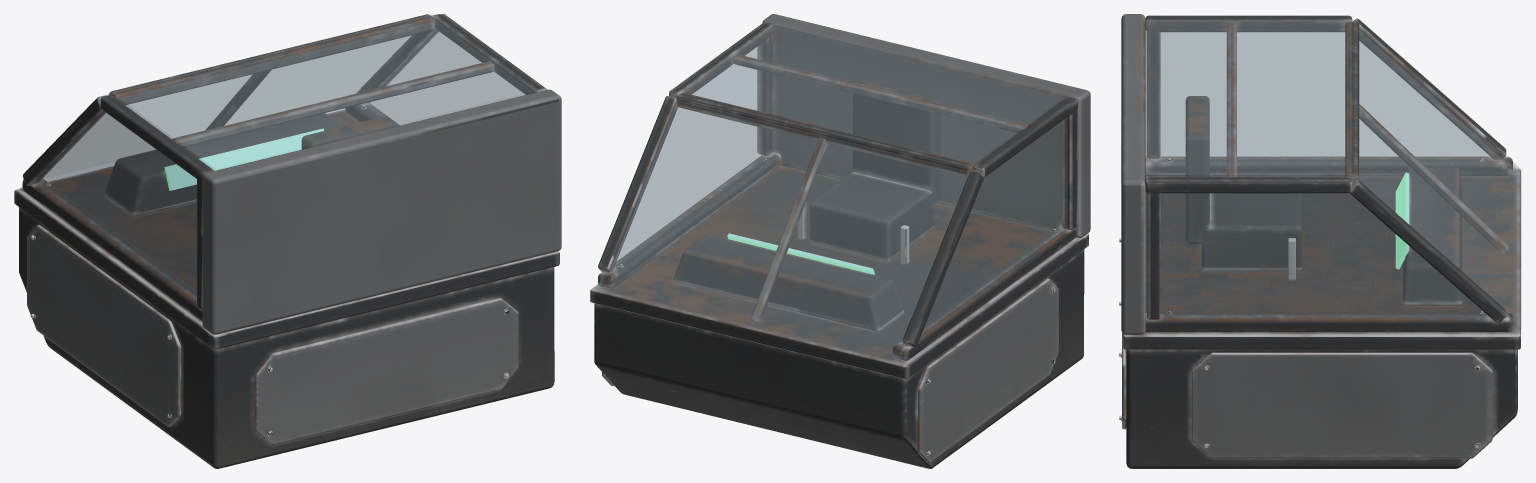
File: SM_ShipCockpit.glb
3 views of the same model, side by side, from view 1: azimuth 30°, elevation 25°; view 2: azimuth 150°, elevation 25°; view 3: azimuth 270°, elevation 25° (orthographic). The views are drawn at different scales.
Parts seen in each view (by area): view 1: SM_ShipCockpit; view 2: SM_ShipCockpit; view 3: SM_ShipCockpit.
Part boxes in pixels (bbox=[...]): SM_ShipCockpit: bbox=[14, 14, 561, 468]; SM_ShipCockpit: bbox=[590, 14, 1090, 468]; SM_ShipCockpit: bbox=[1119, 14, 1521, 468].
Size of the model in its own units: 2.02 by 1.6 by 2.01.
5 materials, 3 textured.
